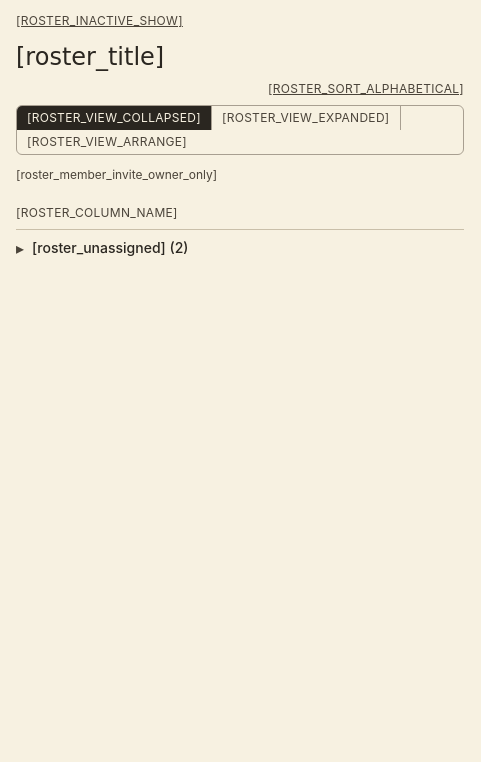
Test: (C) prefill — first open, no-record only (R4) › a row with no email opens with an EMPTY email field — no placeholder-as-value
Click the button "▸ [roster_unassigned] (2)" at point(110, 248), box [16,230,464,266]
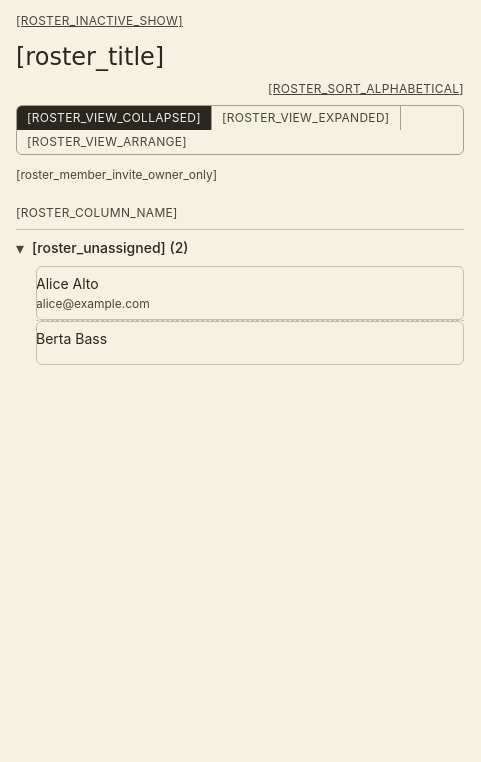
Click the 8th button at point(250, 343), box [36,321,464,365]
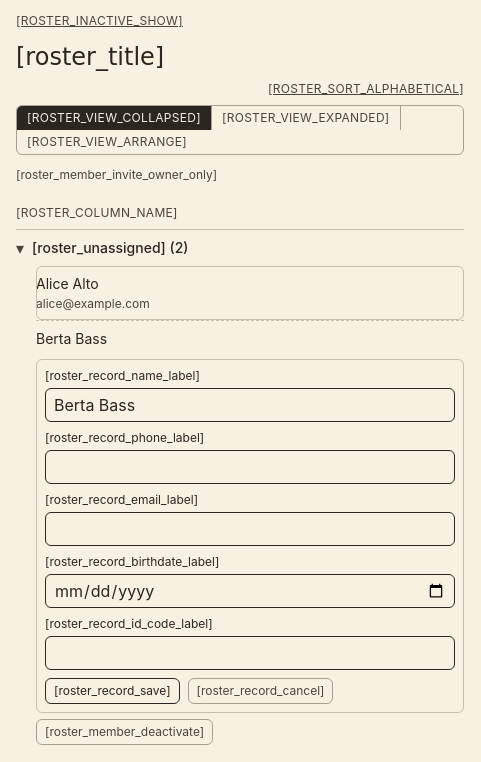
Expected: the field with test id "roster-record-email" is empty, [45,512,455,546]
Result: the field with test id "roster-record-name" is shown at [45,388,455,422]
